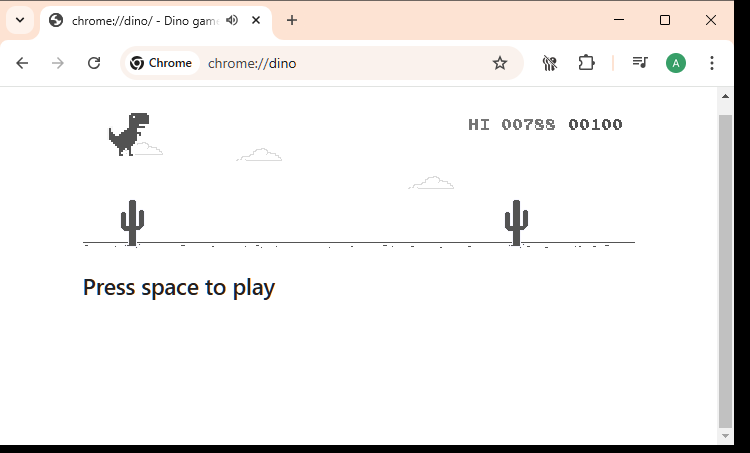cactus: (504, 199, 530, 247), (120, 199, 145, 246)
dino: (108, 112, 150, 157)
